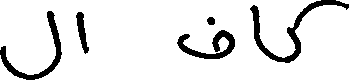ا: (72, 10, 90, 55), (248, 3, 263, 54)
ف: (177, 15, 234, 60)
ك: (285, 0, 346, 64)
ل: (0, 9, 63, 79)
